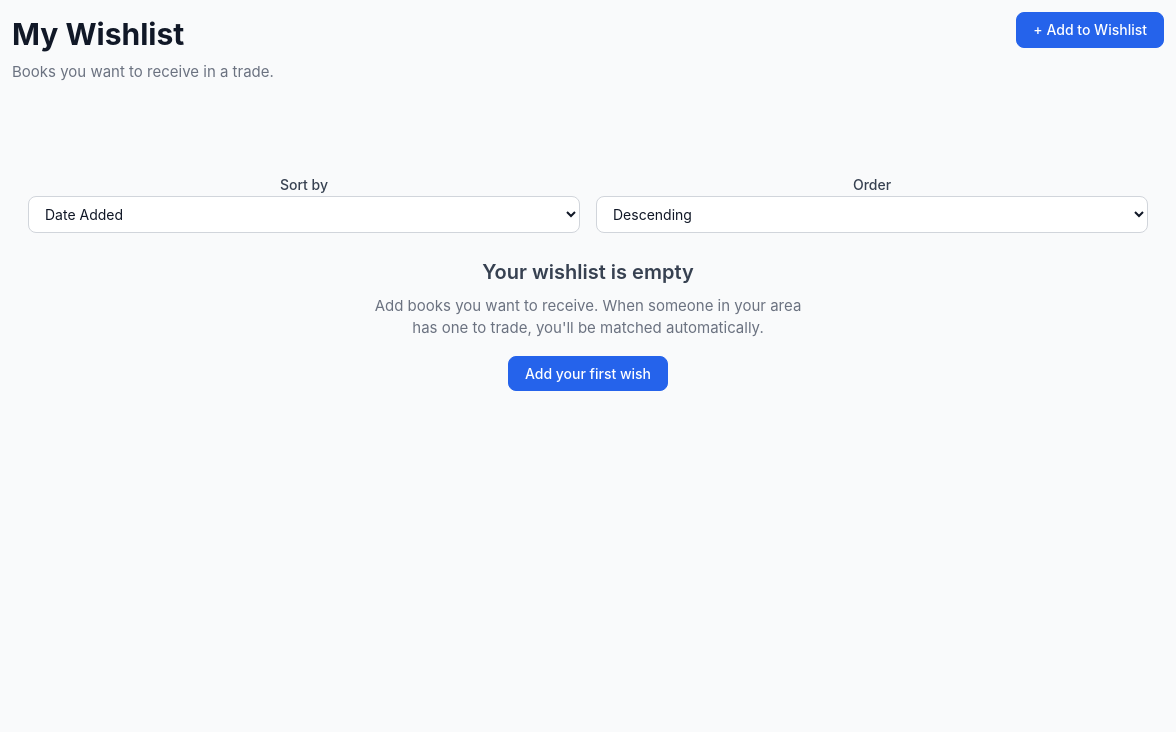
Test: Wishlist page › shows validation error when submitting add form with empty ISBN
Click the button "+ Add to Wishlist". click: point(1090, 30)
box: [1016, 12, 1164, 48]
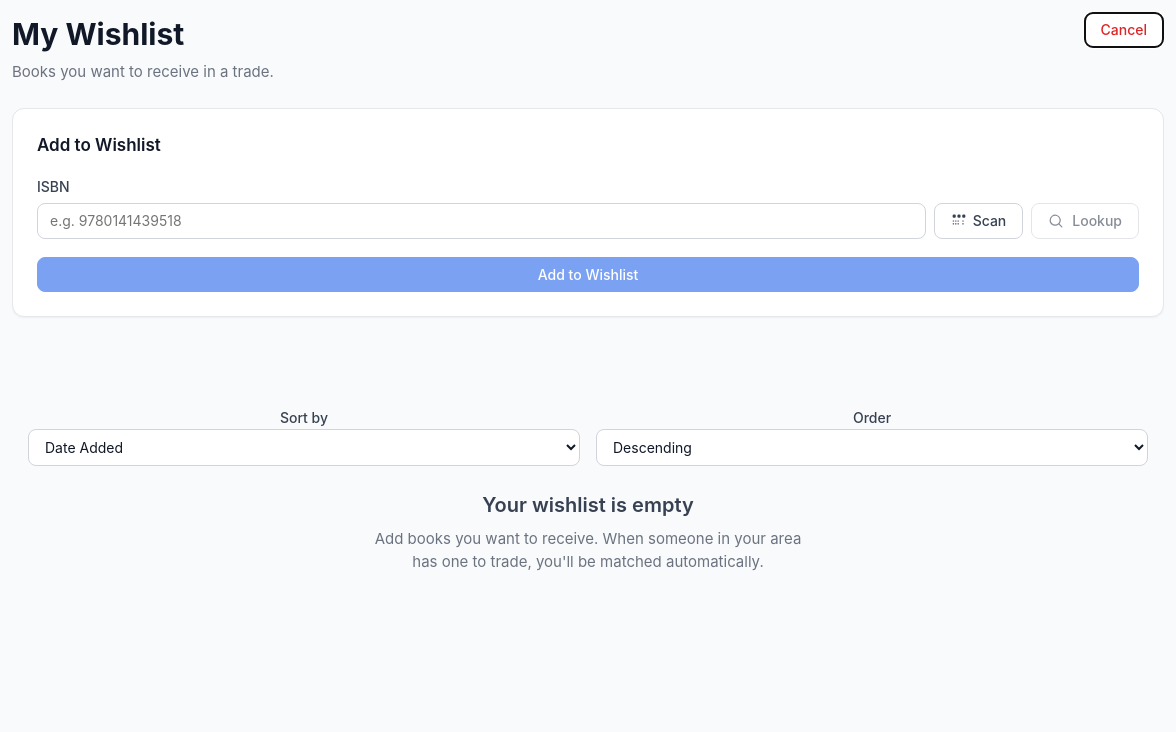
Submit the form, box [12, 108, 1164, 317]
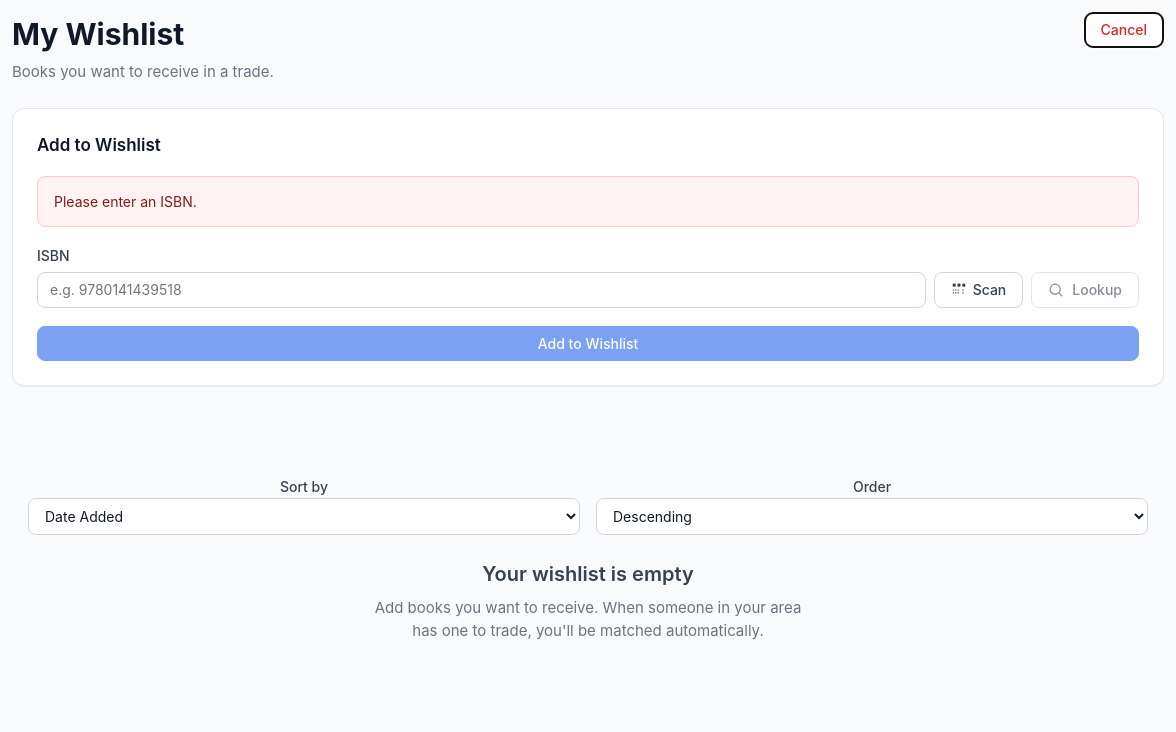
Expected: the text "Please enter an ISBN." is shown, [37, 176, 1139, 227]
